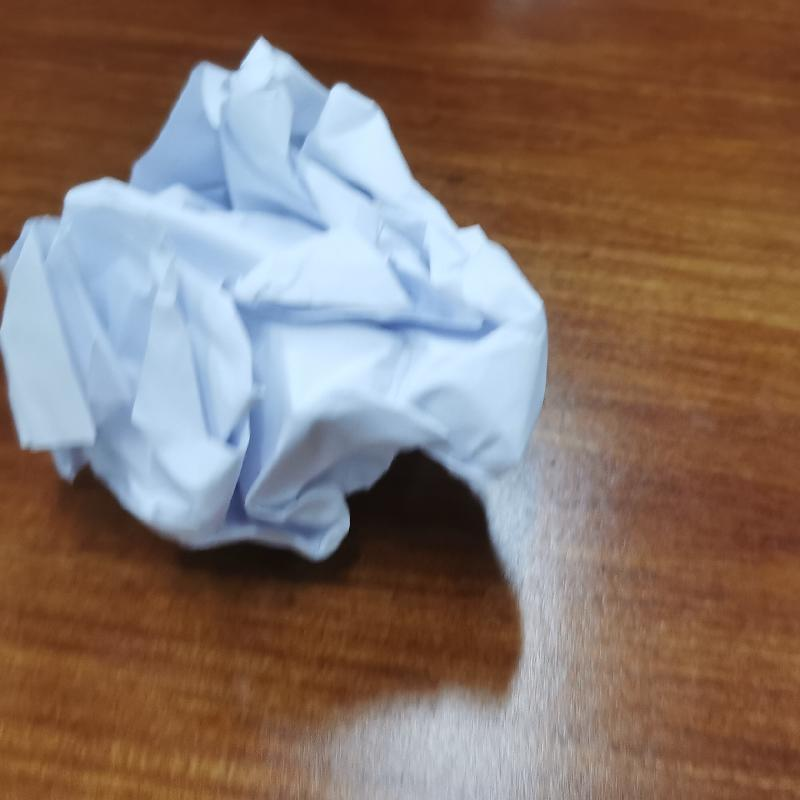spitball: (1, 31, 553, 570)
